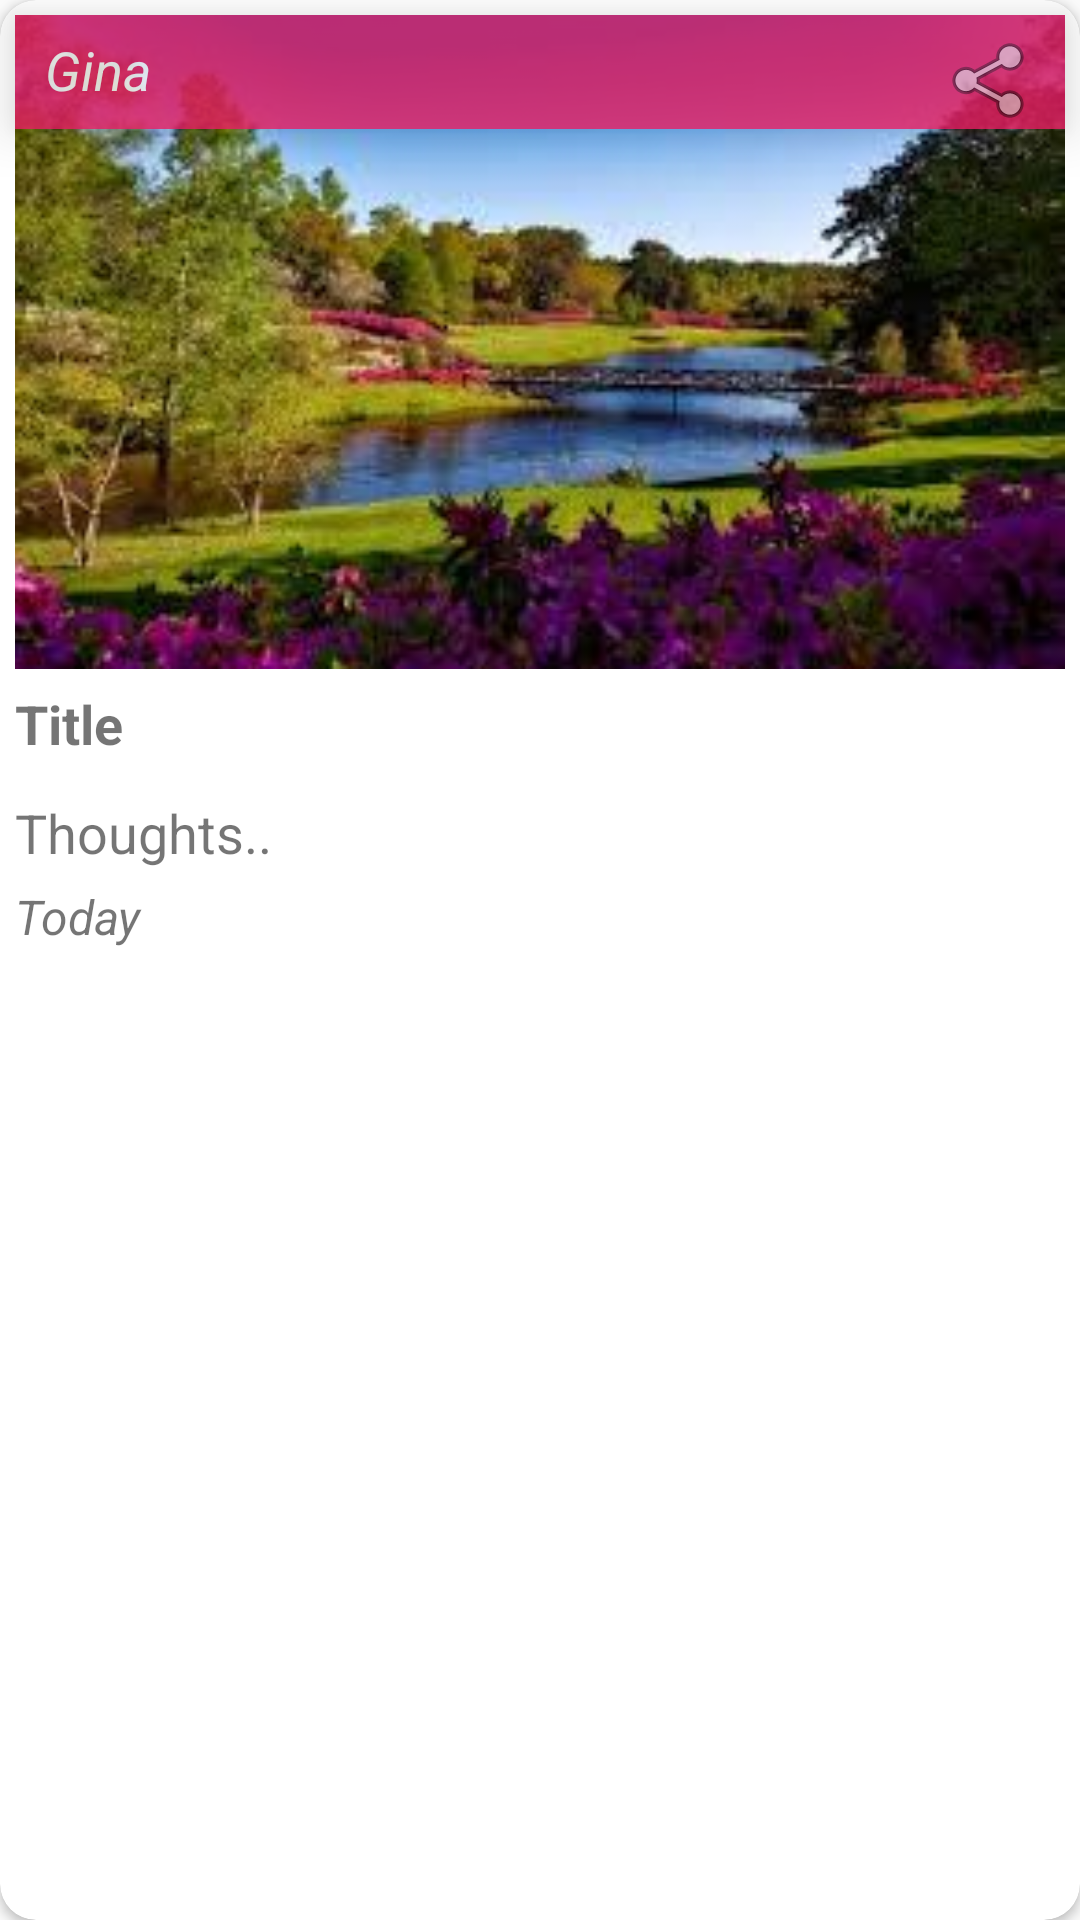

Icons on this 1080px x 1920px Android screen, each with its box as (x1, y1, x2, y2):
share: (945, 43, 1041, 129)
